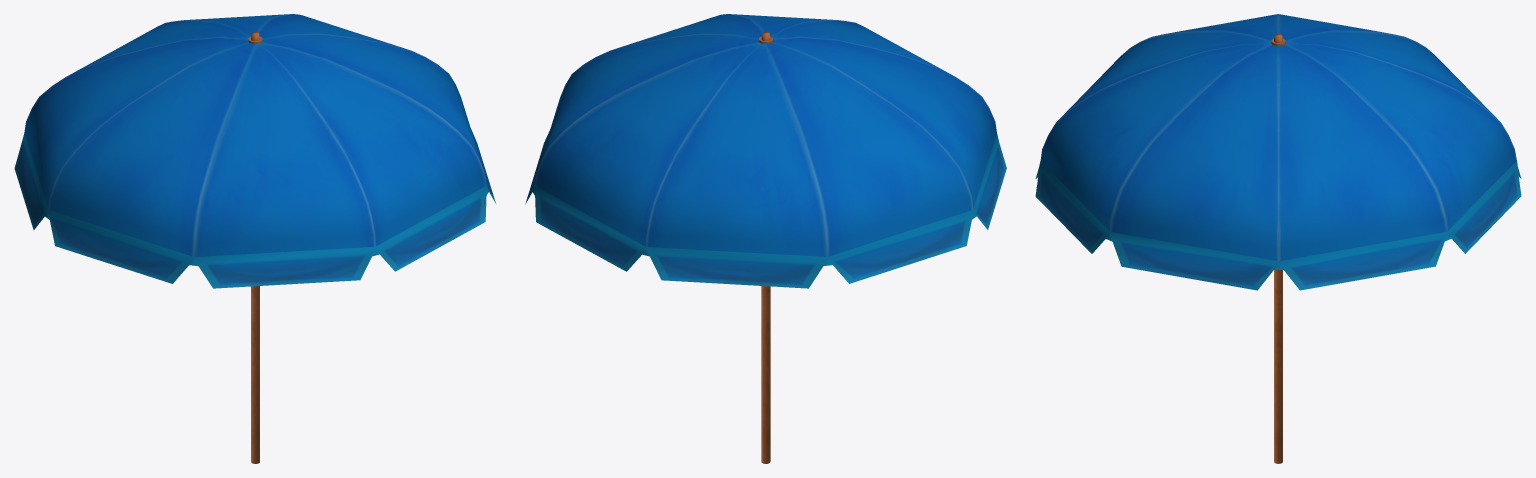
File: Umbrella.obj
The picture shows the model from 3 angles, left to right: view 1: azimuth 30°, elevation 25°; view 2: azimuth 150°, elevation 25°; view 3: azimuth 270°, elevation 25°; orthographic projection.
Visible parts, largest first — view 1: Object_33; view 2: Object_33; view 3: Object_33.
Part boxes in pixels (x1,y1,x2,y2): Object_33: (14,14,495,463); Object_33: (525,14,1006,463); Object_33: (1035,14,1521,463).
Size of the model in its own units: 10.97 by 10.63 by 10.98.
Materials: 1 (1 with a texture image).
